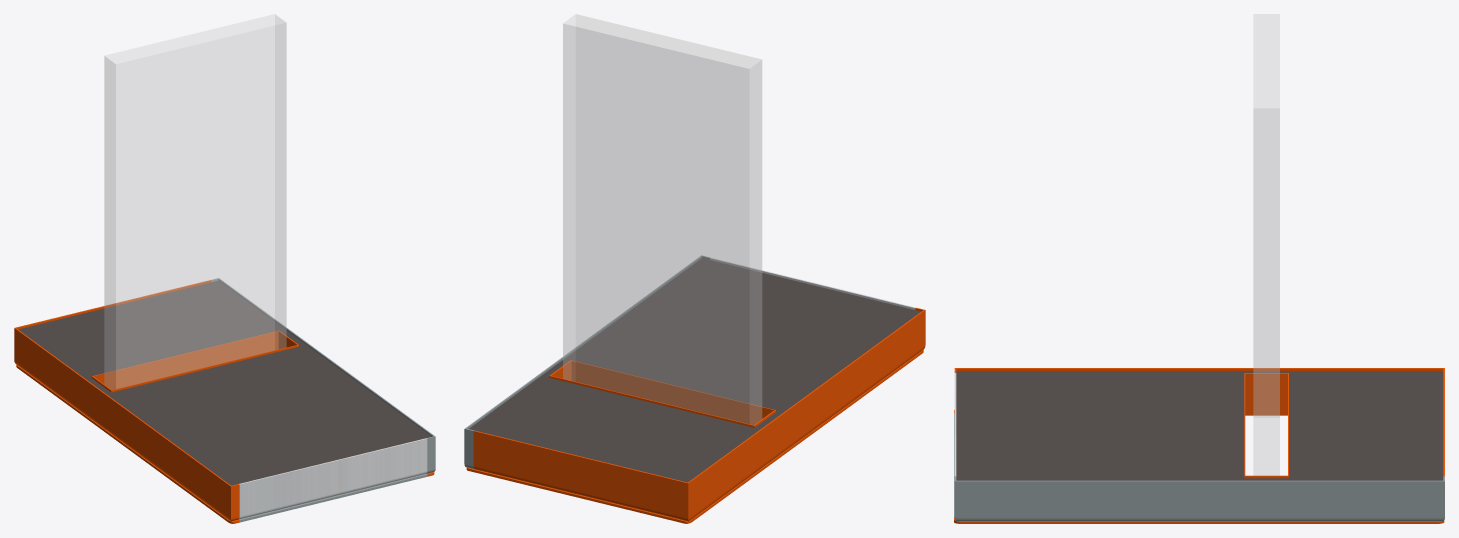
The model's file is panel.glb.
3 views of the same model, side by side, from view 1: azimuth 30°, elevation 25°; view 2: azimuth 150°, elevation 25°; view 3: azimuth 270°, elevation 25° (orthographic). The views are drawn at different scales.
Visible parts, largest first — view 1: panel, c_t_1d3, c_t_1g3, c_t_sl3, c_k, c_t_sp3, c_a_sl5, c_a_2d3.001; view 2: panel, c_t_1d3, c_t_1g3, c_t_sl3, c_k, c_t_sp3, c_a_sl5, c_a_3g5.001; view 3: c_t_1d3, c_t_sp3, c_t_1g3, panel, c_t_sl3, c_k, c_a_sp5.
Boxes of the visible parts, left/top/right/bottom form: panel: left=104, top=14, right=286, bottom=389; c_t_1d3: left=112, top=347, right=427, bottom=519; c_t_1g3: left=23, top=280, right=276, bottom=377; c_t_sl3: left=14, top=326, right=239, bottom=521; c_k: left=91, top=330, right=298, bottom=392; c_t_sp3: left=211, top=278, right=435, bottom=473; c_a_sl5: left=16, top=364, right=239, bottom=523; c_a_2d3.001: left=239, top=474, right=427, bottom=522; panel: left=563, top=14, right=761, bottom=424; c_t_1d3: left=573, top=257, right=915, bottom=411; c_t_1g3: left=473, top=378, right=753, bottom=519; c_t_sl3: left=679, top=307, right=925, bottom=521; c_k: left=549, top=360, right=775, bottom=427; c_t_sp3: left=464, top=255, right=710, bottom=468; c_a_sl5: left=679, top=349, right=923, bottom=523; c_a_3g5.001: left=474, top=469, right=679, bottom=522; c_t_1d3: left=954, top=373, right=1244, bottom=478; c_t_sp3: left=954, top=476, right=1444, bottom=520; c_t_1g3: left=1289, top=373, right=1444, bottom=478; panel: left=1253, top=14, right=1279, bottom=475; c_t_sl3: left=954, top=368, right=1444, bottom=374; c_k: left=1244, top=373, right=1288, bottom=478; c_a_sp5: left=954, top=517, right=1444, bottom=523.
Size of the model in its own units: 0.6 by 1.01 by 1.1.
11 materials, 1 textured.
